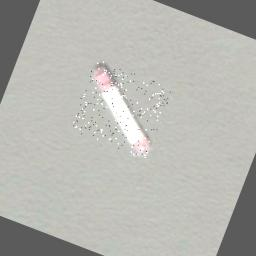boat: (68, 58, 174, 160)
